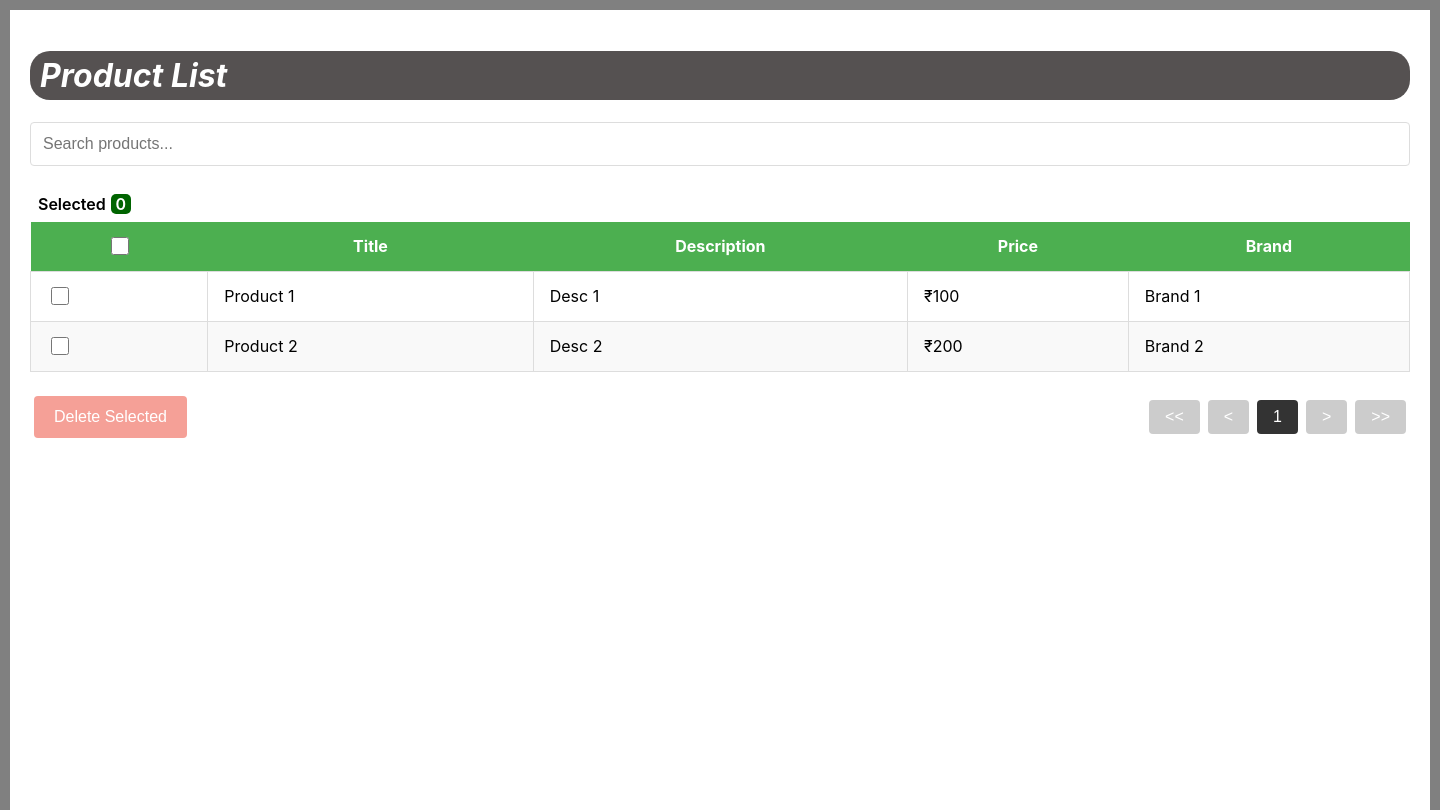
Test case: ProductEditor › filters products based on search term
Expected: the cell "Product 1" is shown, [208,271,533,321]
Type "Product 1" into the field with placeholder "Search products..." at (720,144), box [30,122,1410,166]
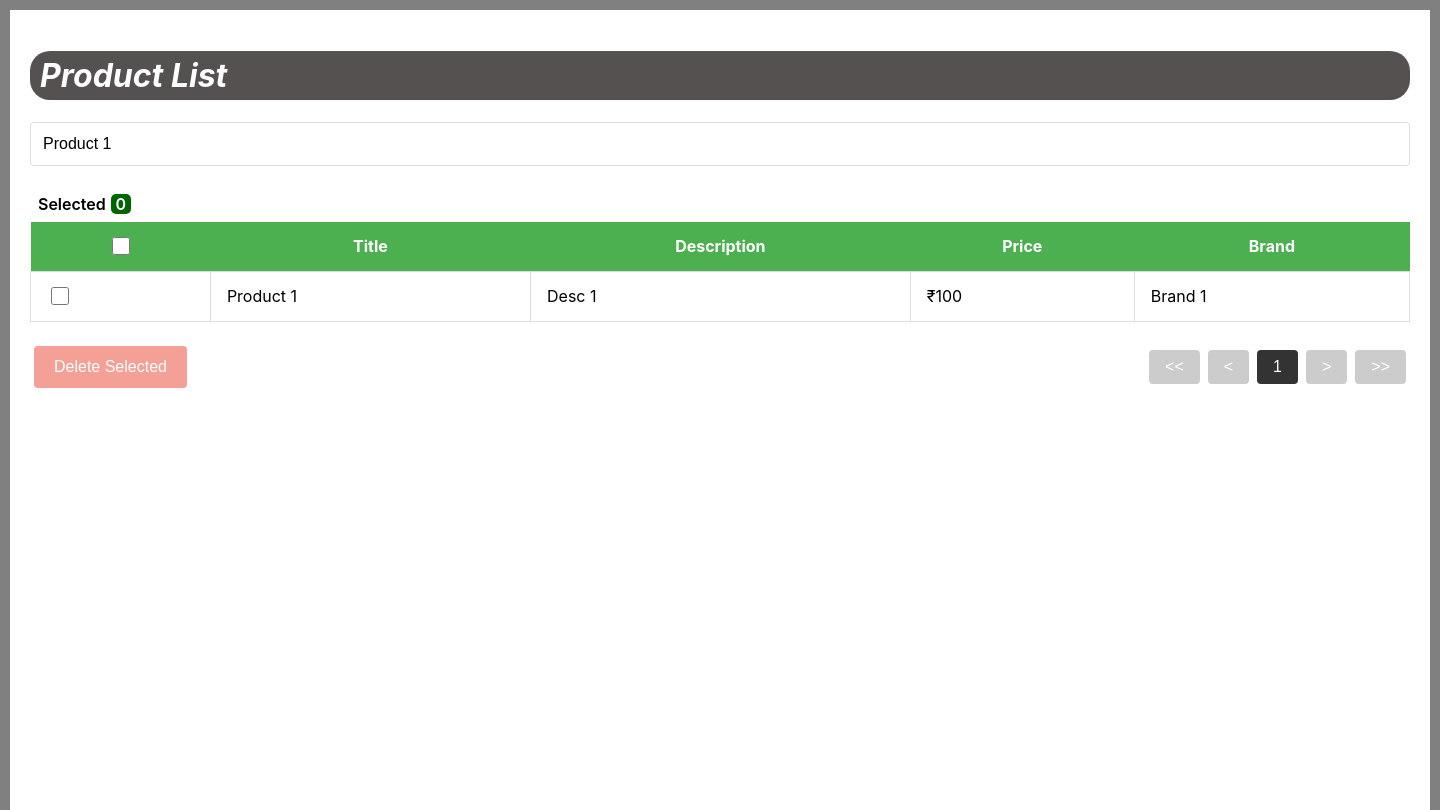
Expected: the cell "Product 1" is shown, [210,271,530,321]
Expected: the cell "Product 2" is gone
